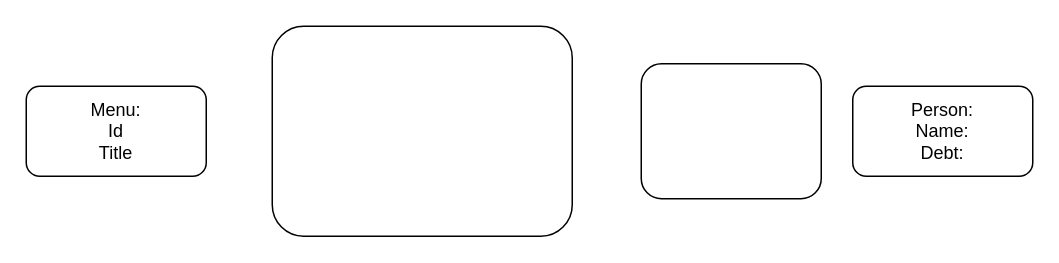
This 1059x263 diagram has some shape labels left out. Here are the shapes that lost their labels. From the top down, the centre of each, then its label:
At point 421,130: "Budget Position: Id: Title: Category: Amount: Data: Account: Persons: Date:".
At point 730,130: "Account: Id: Owner: Balance: Limit:".
